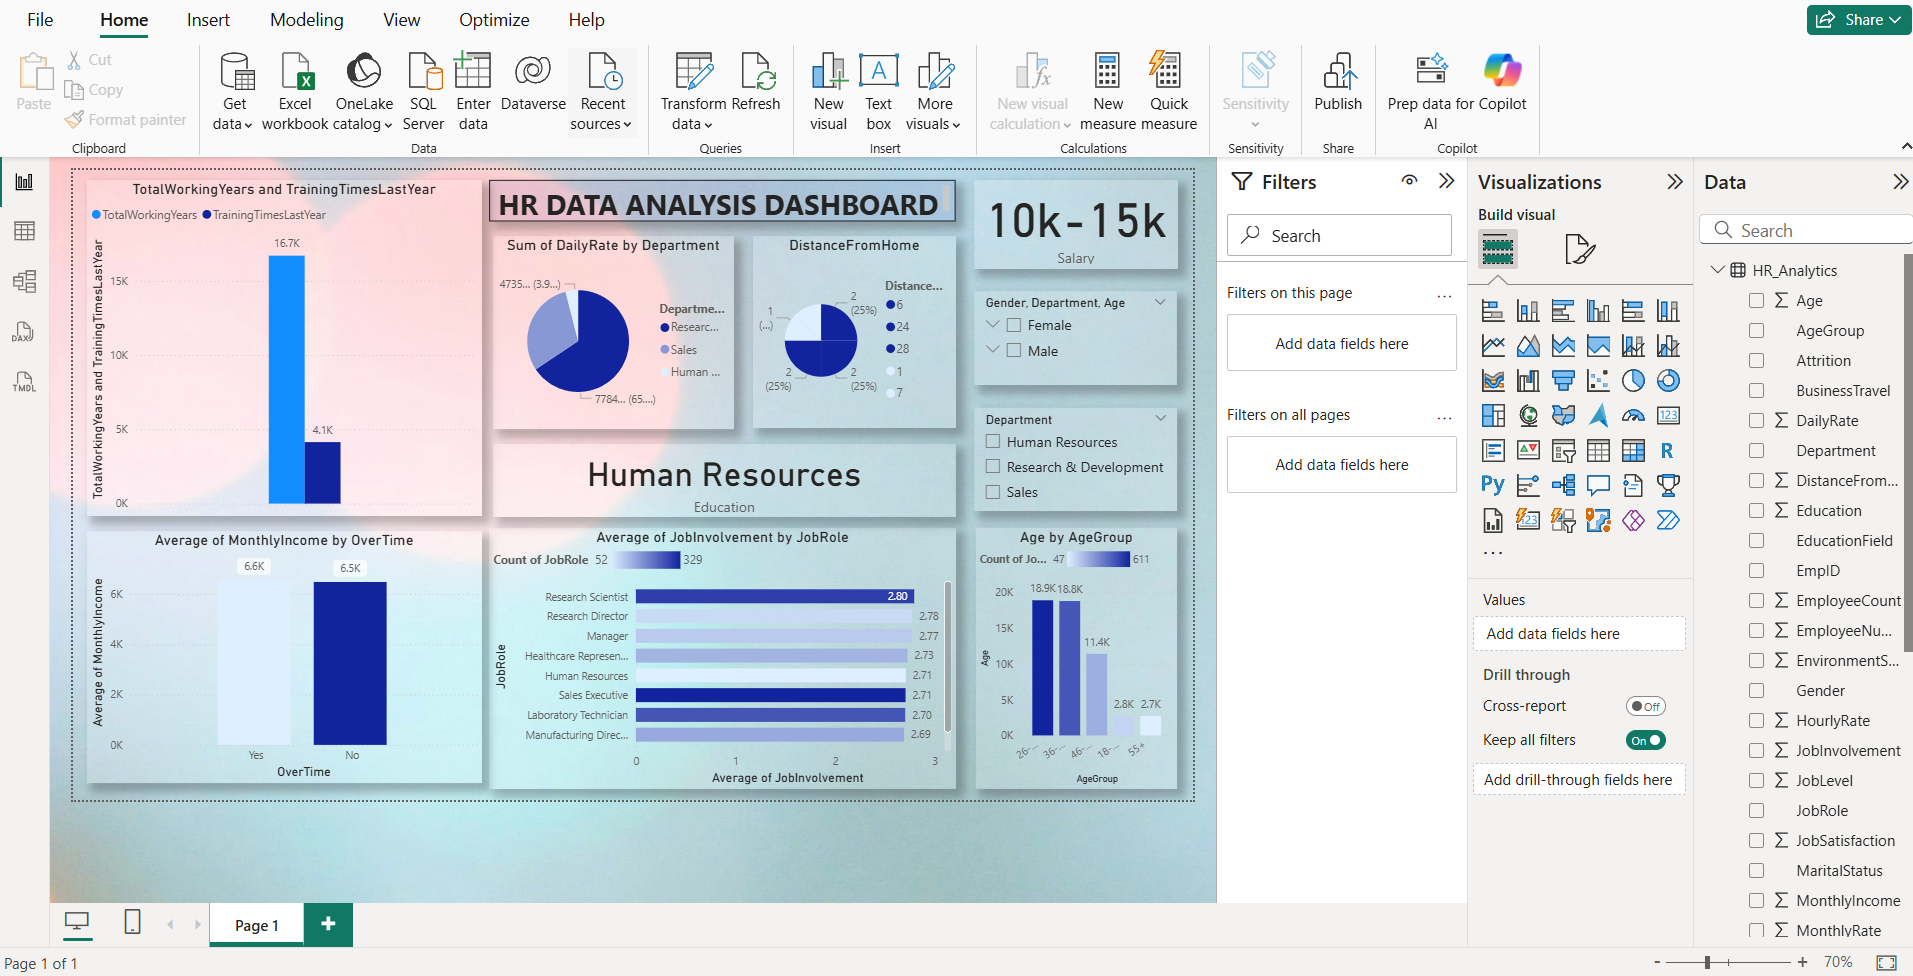

Layout of this report page (visuals, bound fields, positions):
{"tool":"powerbi","page":{"name":"Page 1","canvas":[1280,720],"ordinal":0},"visuals":[{"type":"columnChart","fields":{"Category":["HR_Analytics.AgeGroup"],"Y":["Sum(HR_Analytics.Age)"]},"box":[1031.9,408.3,230.6,298.6],"z":0},{"type":"lineClusteredColumnComboChart","fields":{"Y":["Avg(HR_Analytics.MonthlyIncome)"],"Category":["HR_Analytics.OverTime"]},"box":[15.1,413,451.5,288.2],"z":1000},{"type":"clusteredBarChart","fields":{"Category":["HR_Analytics.JobRole"],"Y":["Avg(HR_Analytics.JobInvolvement)"]},"box":[476.4,408.3,533.3,298.6],"z":2000},{"type":"clusteredColumnChart","fields":{"Y":["Sum(HR_Analytics.TotalWorkingYears)","Sum(HR_Analytics.TrainingTimesLastYear)"]},"box":[15,11.2,451.2,383.8],"z":4000},{"type":"pieChart","fields":{"Y":["Sum(HR_Analytics.DailyRate)"],"Category":["HR_Analytics.Department"]},"box":[480.6,75,275,220.8],"z":5000},{"type":"textbox","box":[476.2,11.2,532.5,47.5],"z":6000},{"type":"card","fields":{"Values":["Min(HR_Analytics.SalarySlab)"]},"box":[1030,11.2,232.5,101.2],"z":7000},{"type":"card","fields":{"Values":["Min(HR_Analytics.EducationField)"]},"box":[480.6,312.5,529.2,83.3],"z":8000},{"type":"slicer","fields":{"Values":["HR_Analytics.Gender","HR_Analytics.Department","HR_Analytics.Age"]},"box":[1030,138.8,231.2,107.5],"z":9000},{"type":"pieChart","title":"DistanceFromHome","fields":{"Category":["HR_Analytics.DistanceFromHome"],"Y":["CountNonNull(HR_Analytics.EmpID)"]},"box":[777.8,76.4,231.9,219.4],"z":12000},{"type":"slicer","fields":{"Values":["HR_Analytics.Department"]},"box":[1030.6,270.8,231.9,118.1],"z":12001}]}

Visuals, with their boxes on the page's 1280x720 design canvas (x1, y1, x2, y2). These are canvas units, not pixel positions in the 1913x976 screenshot, which may show the page scaled, cropped or inside an application window:
columnChart - HR_Analytics.AgeGroup x Sum(HR_Analytics.Age): 1032:408:1262:707
lineClusteredColumnComboChart - Avg(HR_Analytics.MonthlyIncome) x HR_Analytics.OverTime: 15:413:467:701
clusteredBarChart - HR_Analytics.JobRole x Avg(HR_Analytics.JobInvolvement): 476:408:1010:707
clusteredColumnChart - Sum(HR_Analytics.TotalWorkingYears) x Sum(HR_Analytics.TrainingTimesLastYear): 15:11:466:395
pieChart - Sum(HR_Analytics.DailyRate) x HR_Analytics.Department: 481:75:756:296
textbox: 476:11:1009:59
card - Min(HR_Analytics.SalarySlab): 1030:11:1262:112
card - Min(HR_Analytics.EducationField): 481:312:1010:396
slicer - HR_Analytics.Gender x HR_Analytics.Department: 1030:139:1261:246
"DistanceFromHome" pieChart: 778:76:1010:296
slicer - HR_Analytics.Department: 1031:271:1262:389
